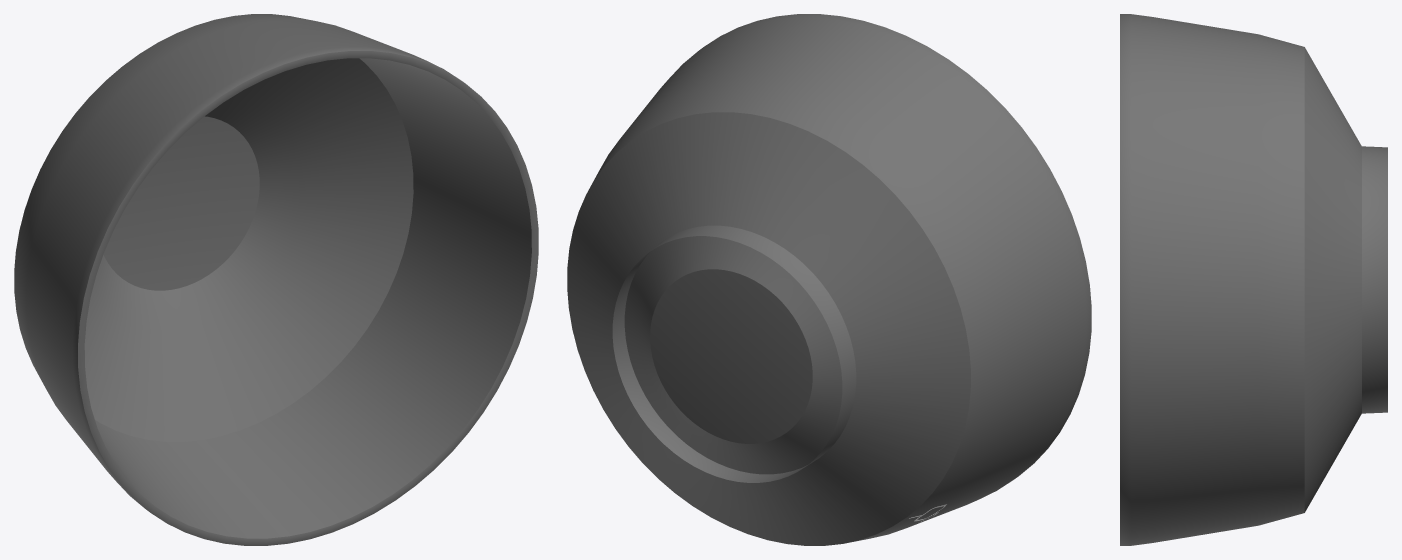
The model's file is coffee_machine_main_group_main_model_6.obj.
The picture shows the model from 3 angles, left to right: view 1: azimuth 30°, elevation 25°; view 2: azimuth 150°, elevation 25°; view 3: azimuth 270°, elevation 25°; orthographic projection.
Bounding box in the file's own units: 0.3022 × 0.3024 × 0.1521.
1 material, 1 textured.
